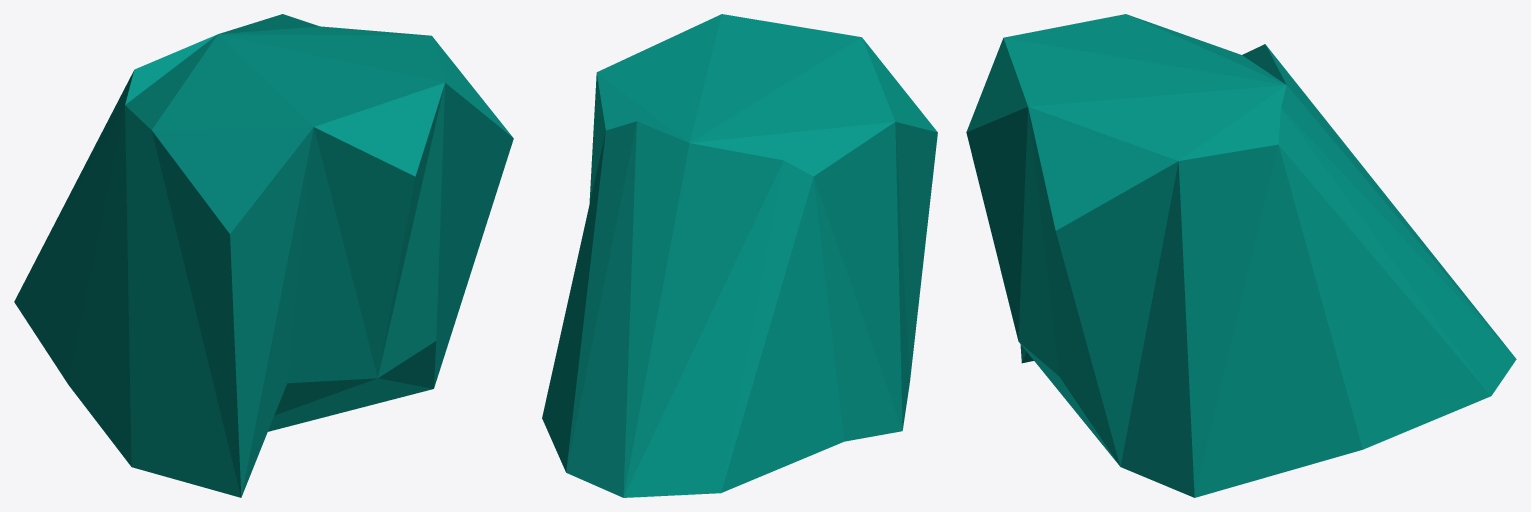
Rendered from n5_n5_group593923946_lev5.001.glb.
The picture shows the model from 3 angles, left to right: view 1: azimuth 30°, elevation 25°; view 2: azimuth 150°, elevation 25°; view 3: azimuth 270°, elevation 25°; orthographic projection. The views are drawn at different scales.
Parts seen in each view (by area): view 1: n5_n5_group593923946_lev5.001; view 2: n5_n5_group593923946_lev5.001; view 3: n5_n5_group593923946_lev5.001.
Boxes of the visible parts, <box> form: n5_n5_group593923946_lev5.001: <box>14,14,513,497</box>; n5_n5_group593923946_lev5.001: <box>542,14,937,497</box>; n5_n5_group593923946_lev5.001: <box>966,14,1516,497</box>.
Size of the model in its own units: 4.32 by 4.4 by 6.16.
